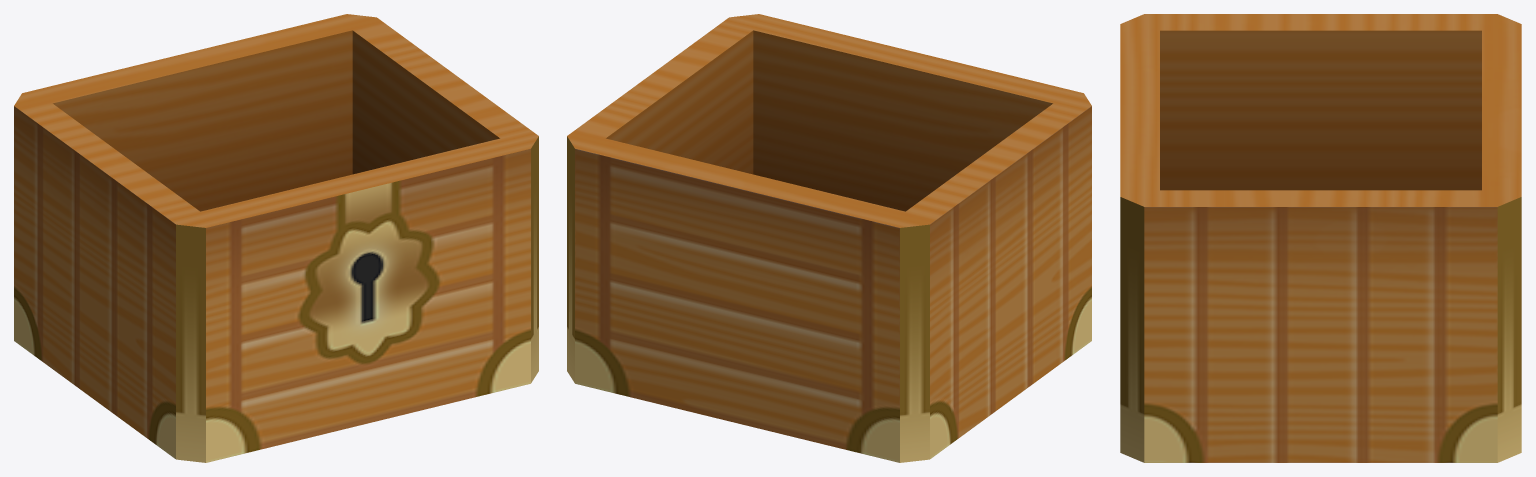
Rendered from chestgold_base.fbx.
3 renders of one model, left to right at view 1: azimuth 30°, elevation 25°; view 2: azimuth 150°, elevation 25°; view 3: azimuth 270°, elevation 25°, orthographic. The views are drawn at different scales.
Parts seen in each view (by area): view 1: base; view 2: base; view 3: base.
Part boxes in pixels (x1,y1,x2,y2): base: [14, 14, 538, 462]; base: [567, 14, 1091, 462]; base: [1120, 14, 1521, 462].
Bounding box in the file's own units: 99.87 × 61.8 × 87.75.
Materials: 1 (1 with a texture image).
